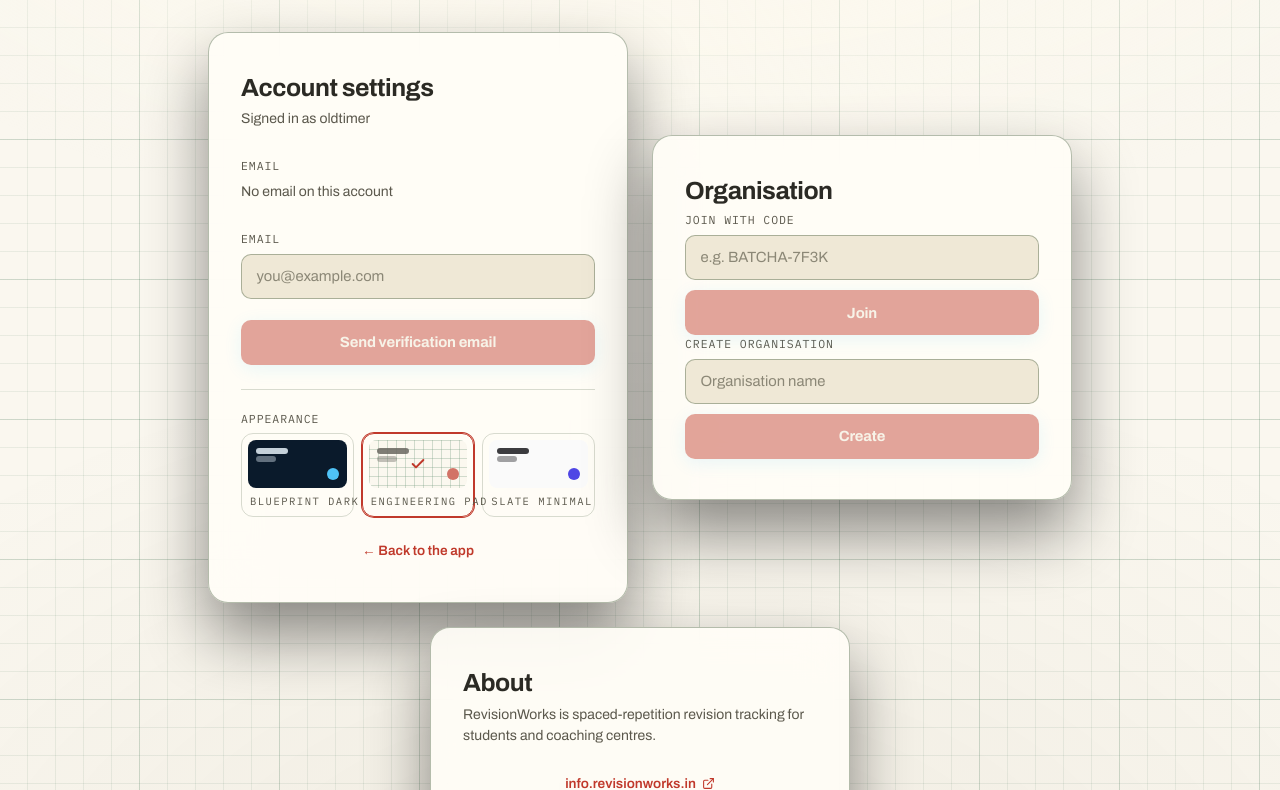
Scenario: lets a grandfathered account submit an email for verification
Expected: the text "No email on this account" is shown, [241,184,393,199]
Type "late@example.com" into the field labelled "Email" at (418, 276), box [241,254,595,299]
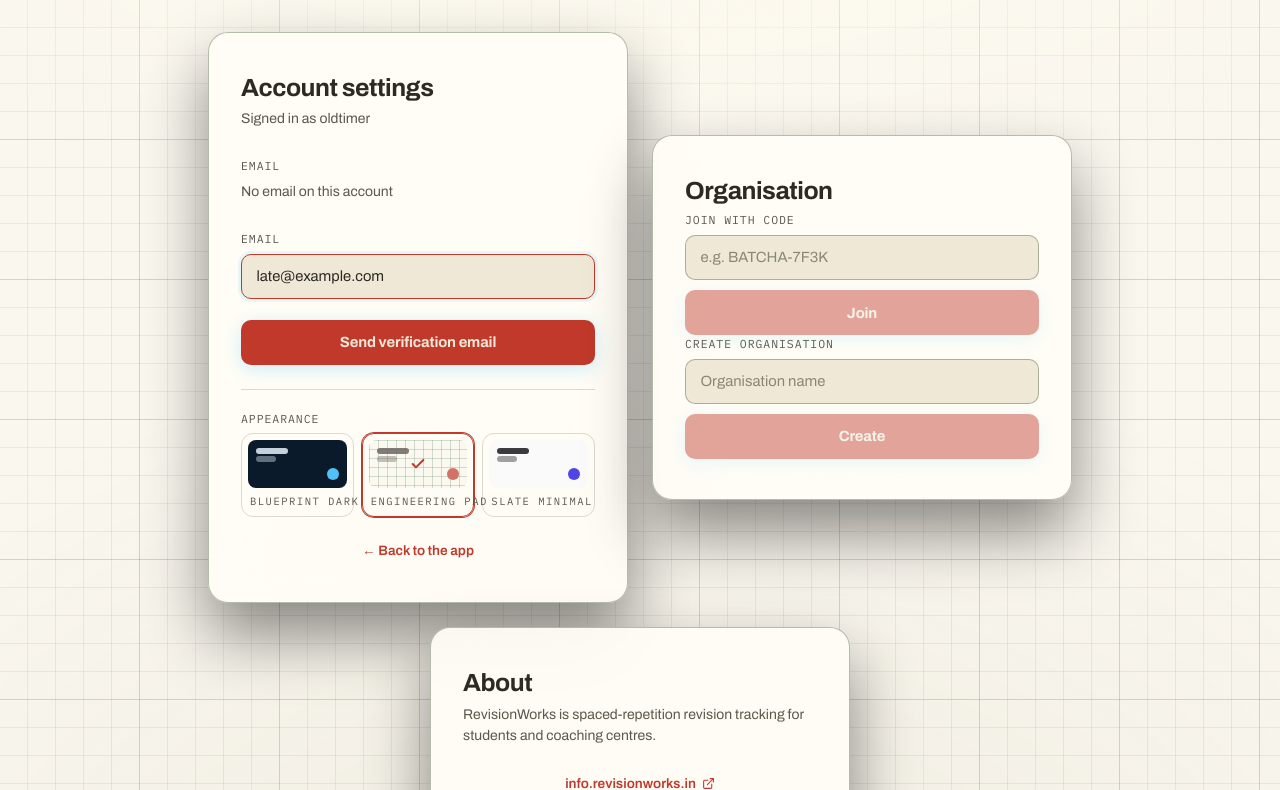
Click the button "Send verification email" at (418, 342), box [241,320,595,365]
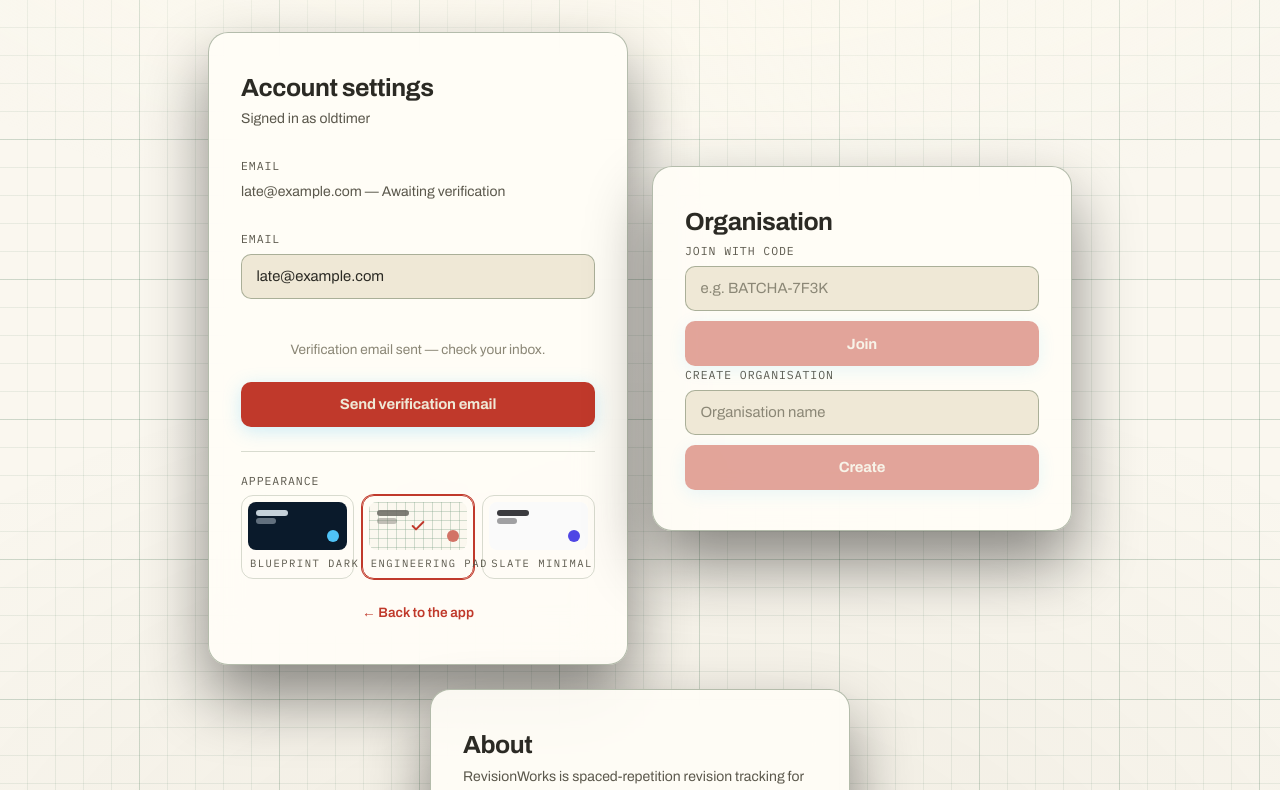
Expected: the text "Verification email sent — check your inbox." is shown, [290,342,546,357]
